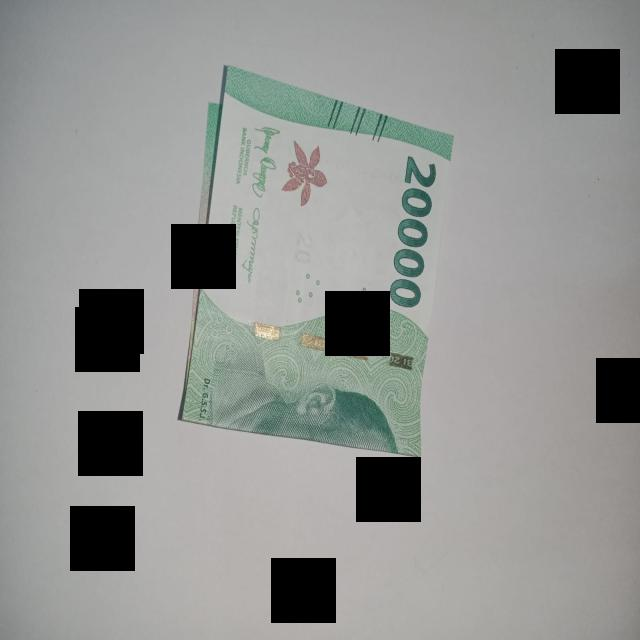dua puluh ribu rupiah: (179, 67, 454, 457)
